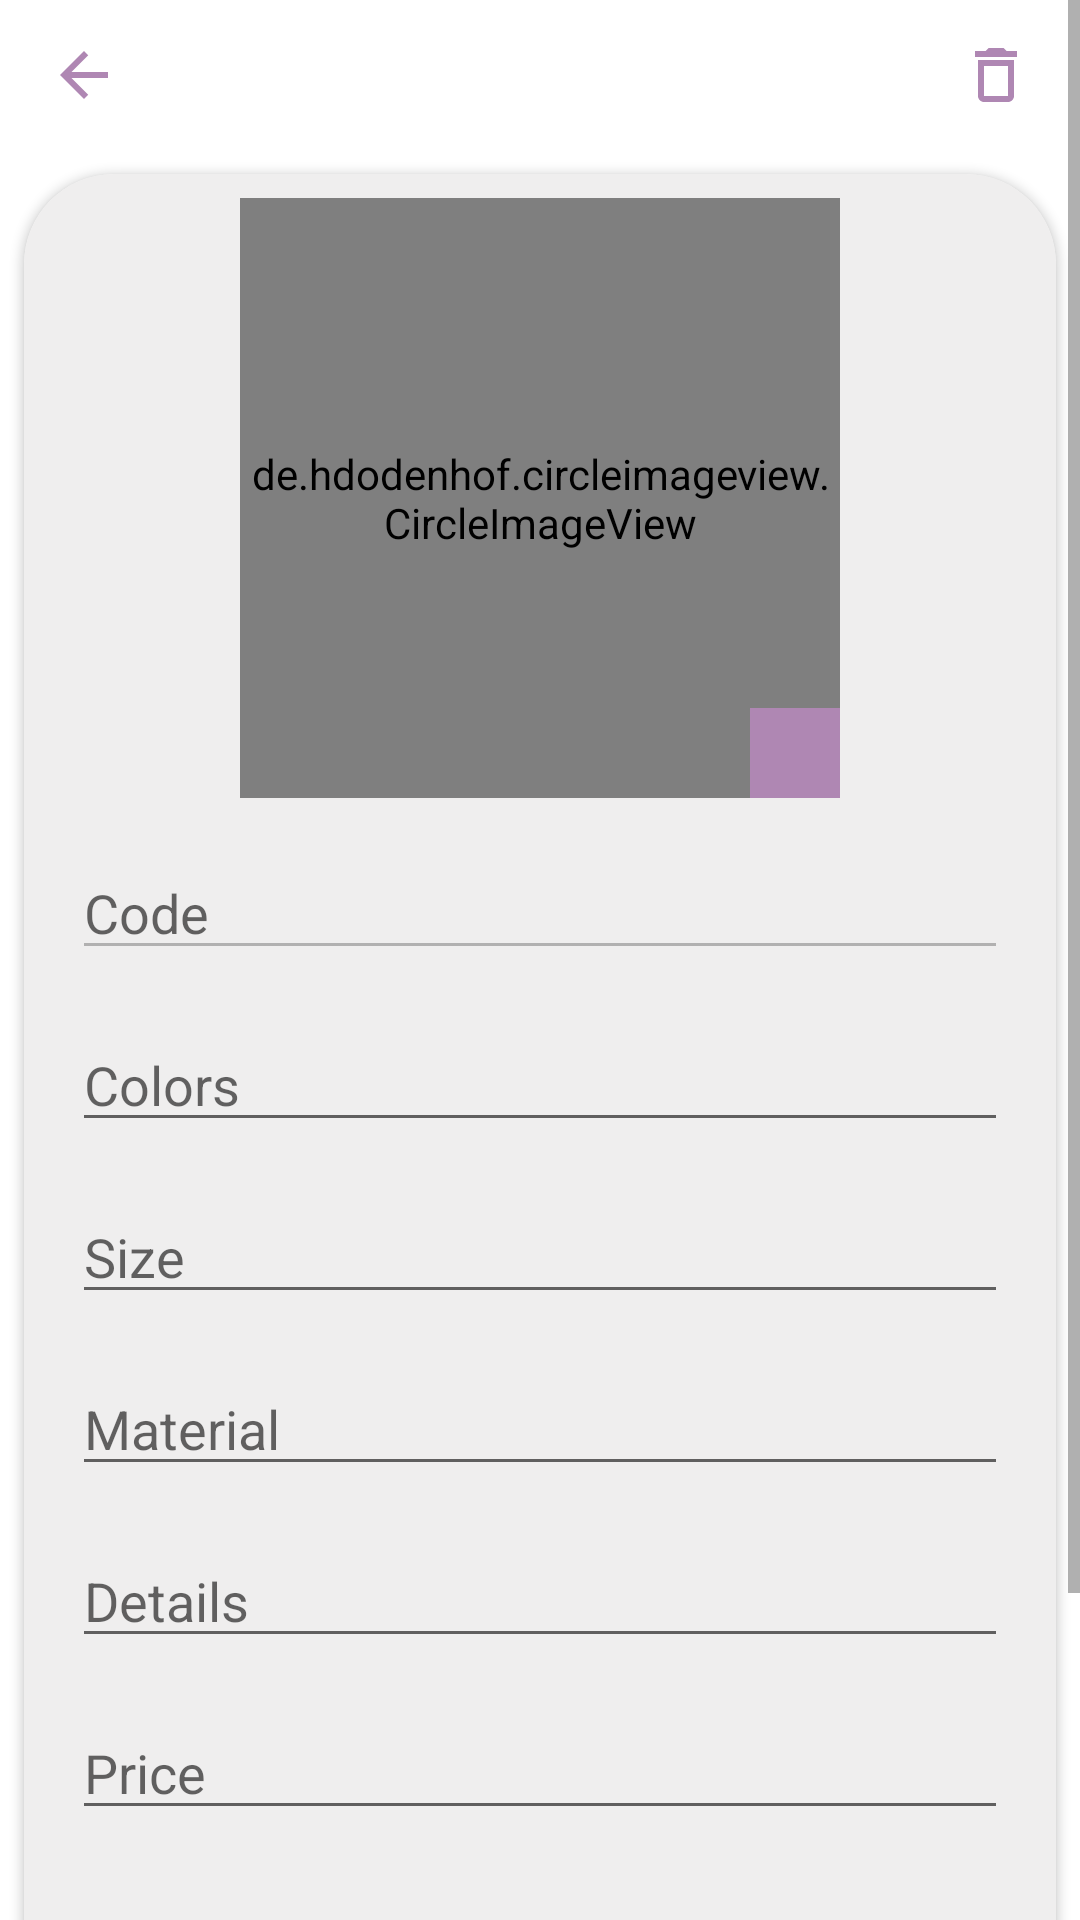

Screen size 1080 × 1920. Icon name, then its box in pixels as [x1, y1, x2, y2]:
back: [60, 51, 108, 99]
delete: [975, 48, 1017, 102]
